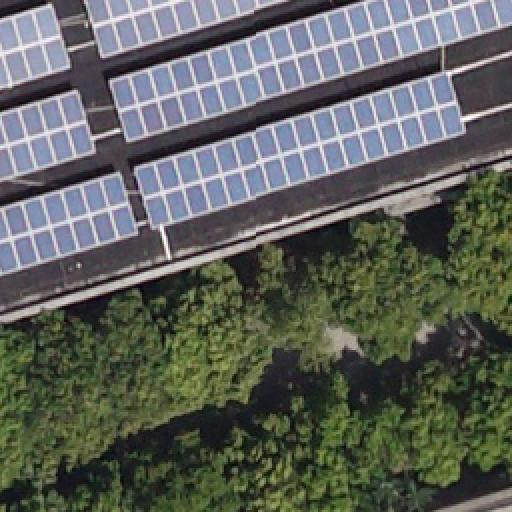solar-panel: (108, 0, 512, 144), (132, 70, 468, 230), (1, 171, 143, 277), (84, 0, 296, 60), (0, 87, 96, 185), (0, 2, 72, 94)
